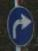turn: (6, 5, 32, 45)
